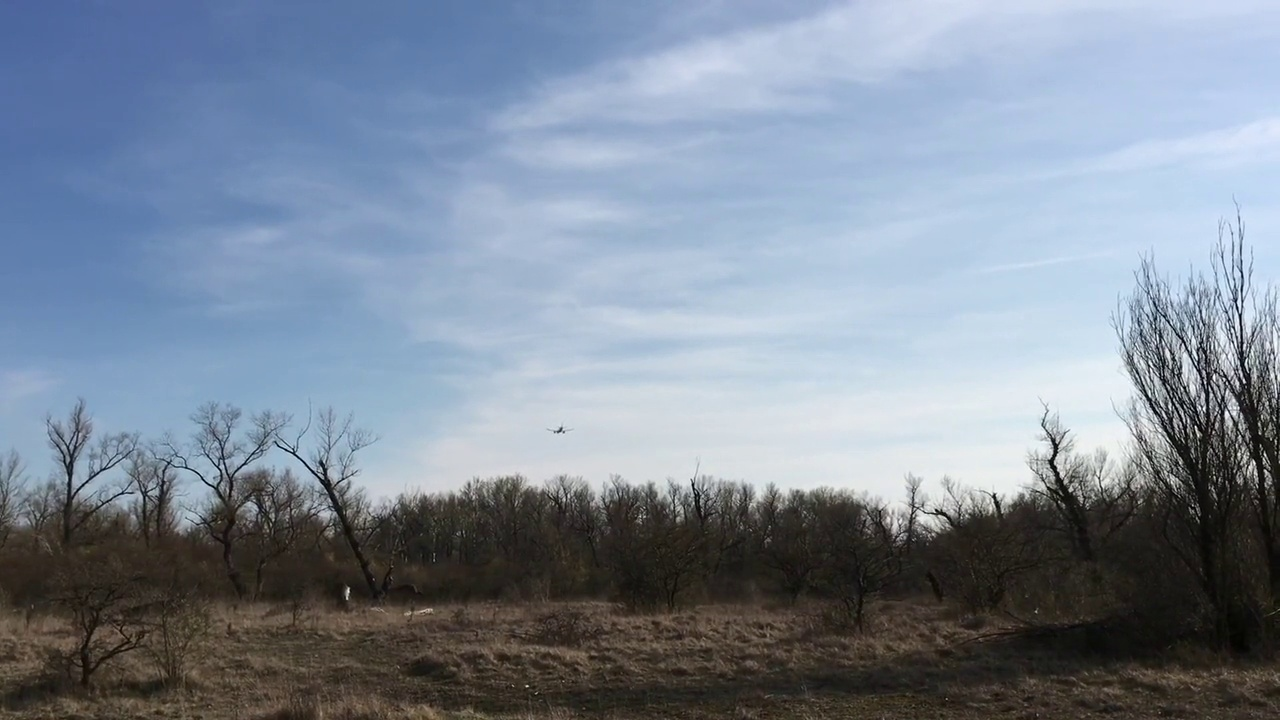plane: (544, 421, 572, 435)
